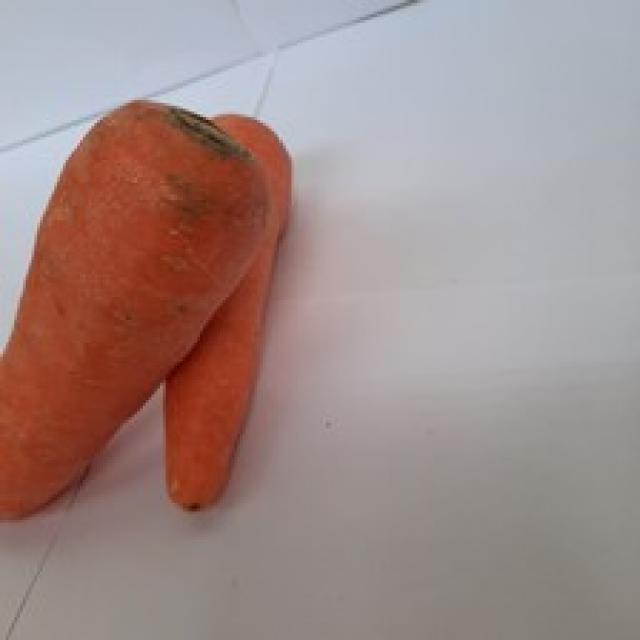carrot: (0, 102, 270, 518), (166, 114, 291, 508)
